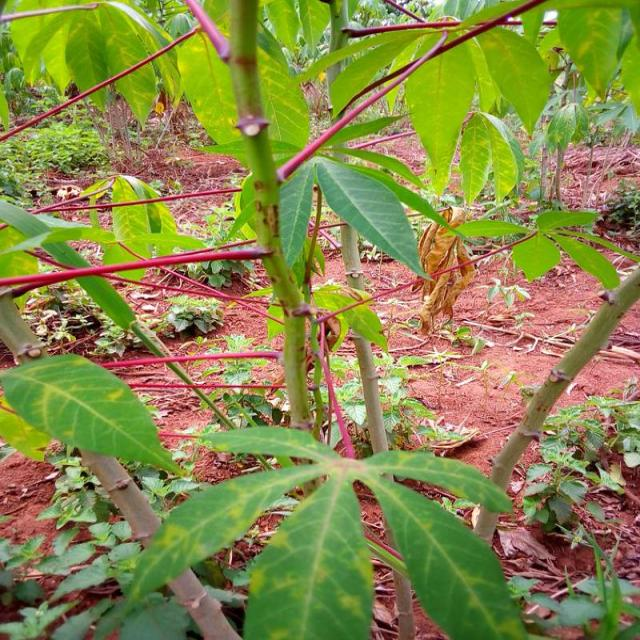cassava leaf: (2, 351, 185, 477), (8, 0, 183, 129), (243, 469, 376, 638), (174, 6, 312, 168), (316, 154, 434, 282)
